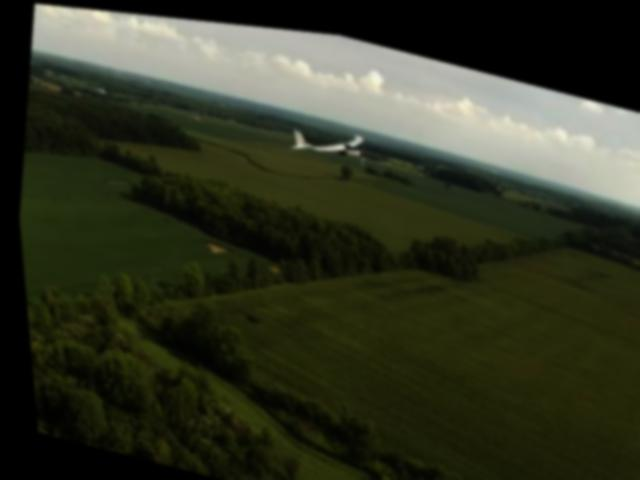uav: (275, 99, 374, 175)
